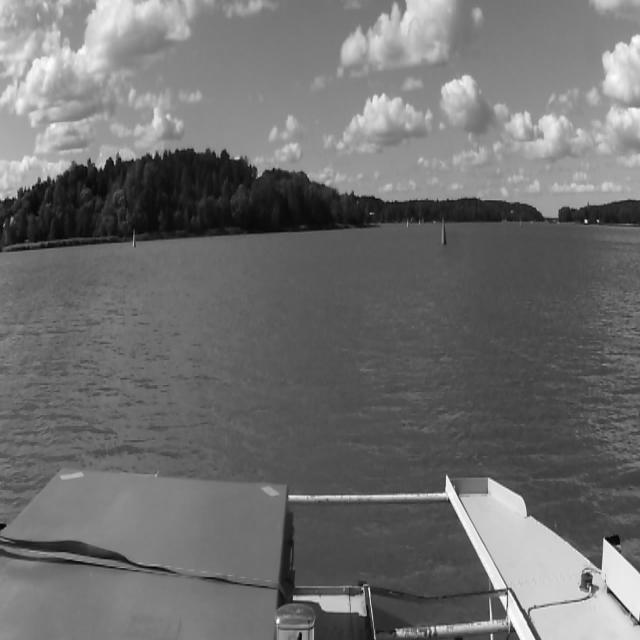buoy: (439, 218, 448, 247), (132, 229, 136, 247)
